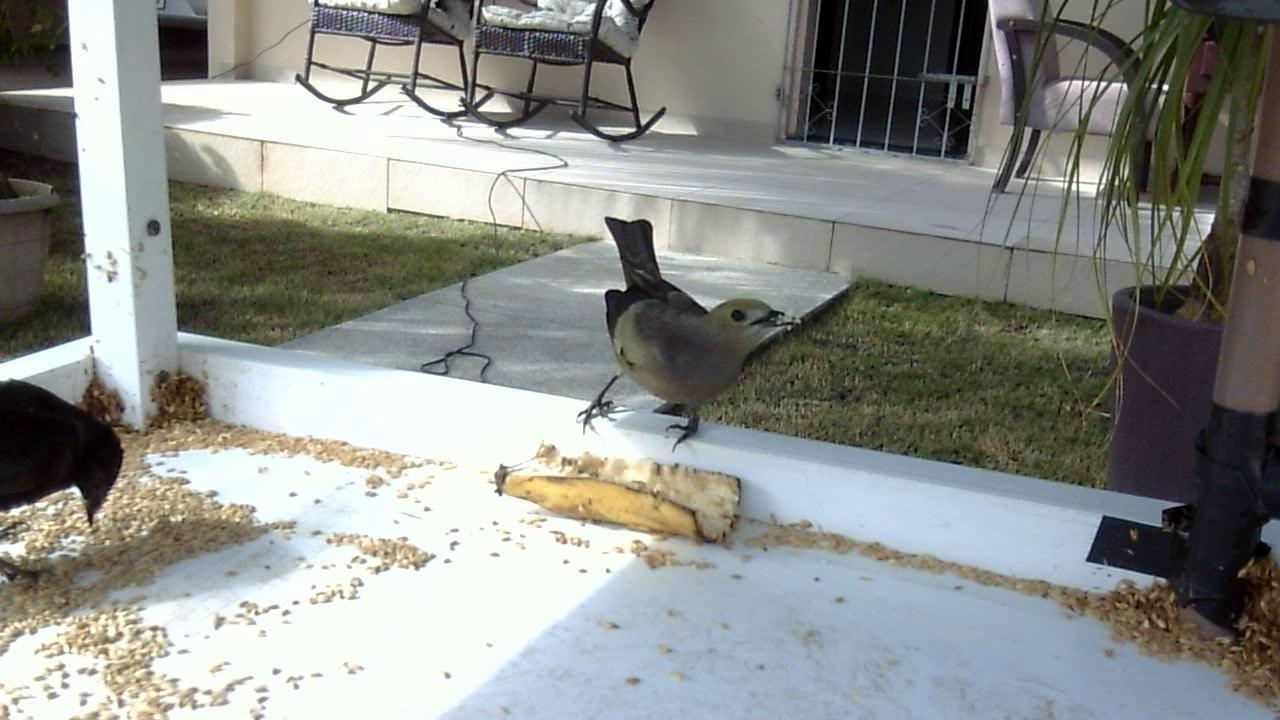chupim: (1, 365, 141, 592)
sanhaco_do_coqueiro: (573, 218, 868, 453)
